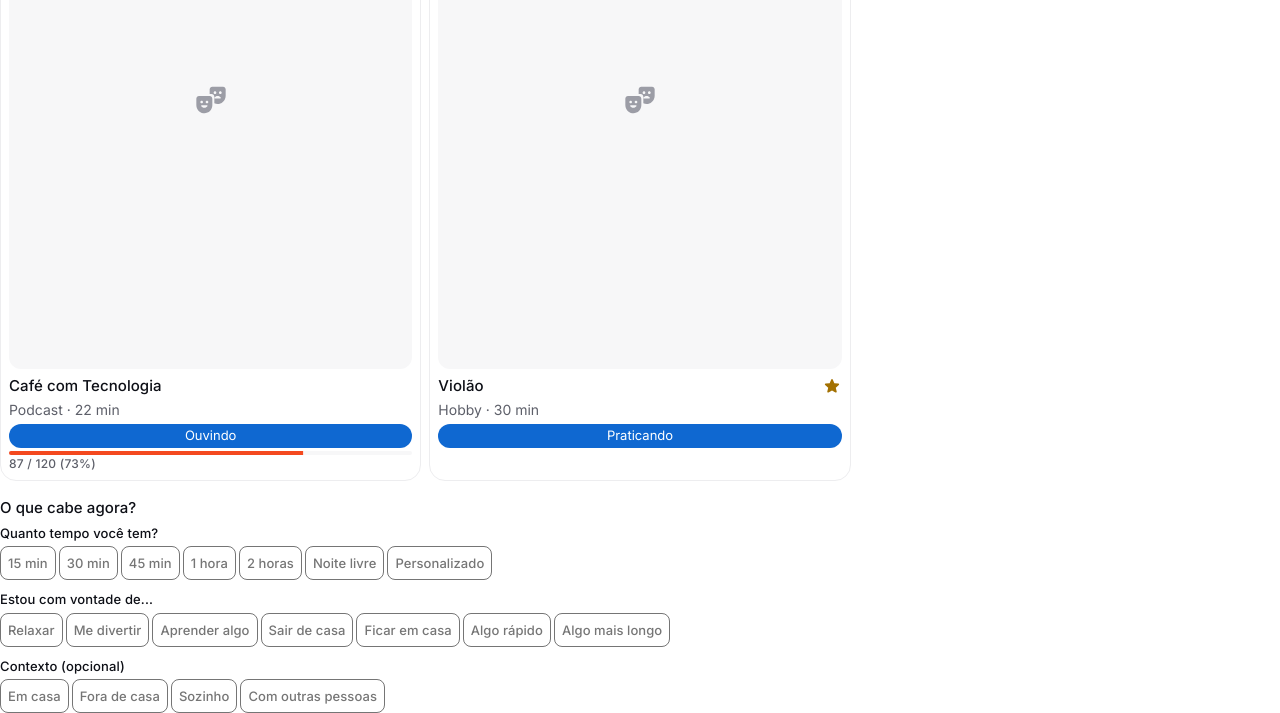
TodayPage › starts a suggested activity, marking it in progress
This screenshot has width=1280, height=713.
(page scrolled)
Expected: the text "O que cabe agora?" is shown, [0,498,136,517]
Click the button "15 min": [28, 563] box [0,546,56,580]
(page scrolled)
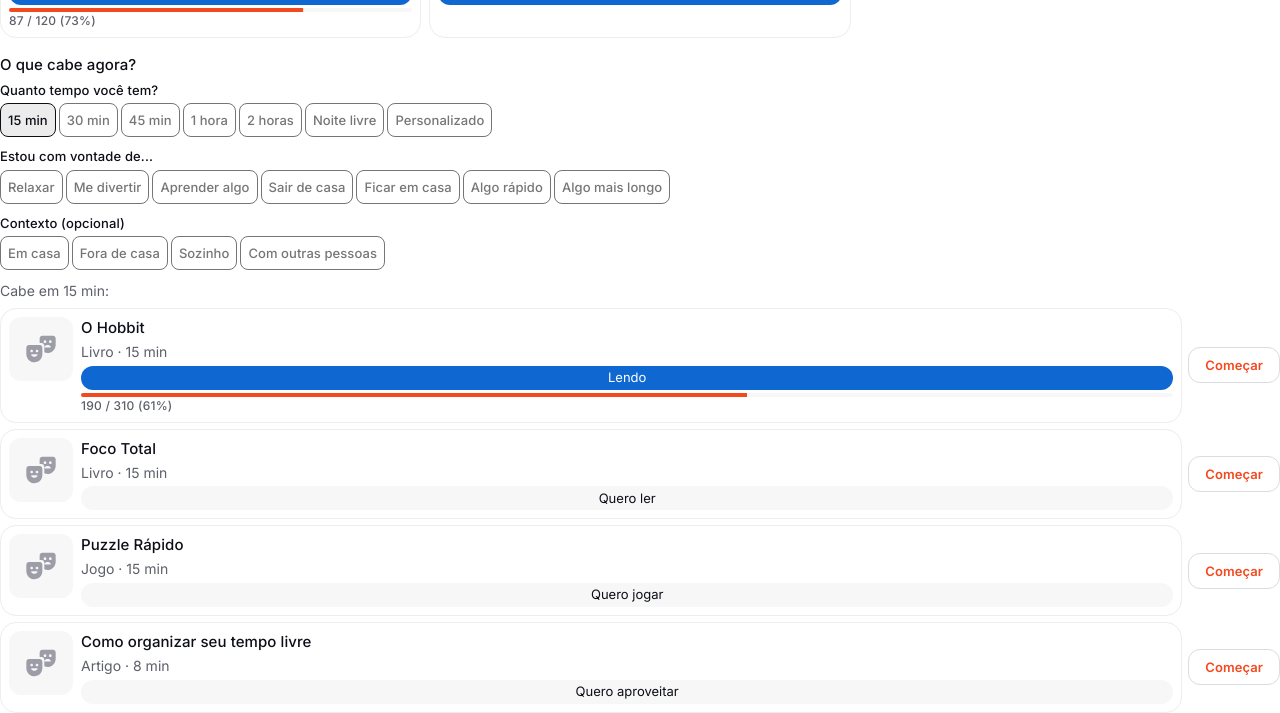
Click the button "Começar" in the row of "Quero jogar": [1234, 571] box [1188,553,1279,589]
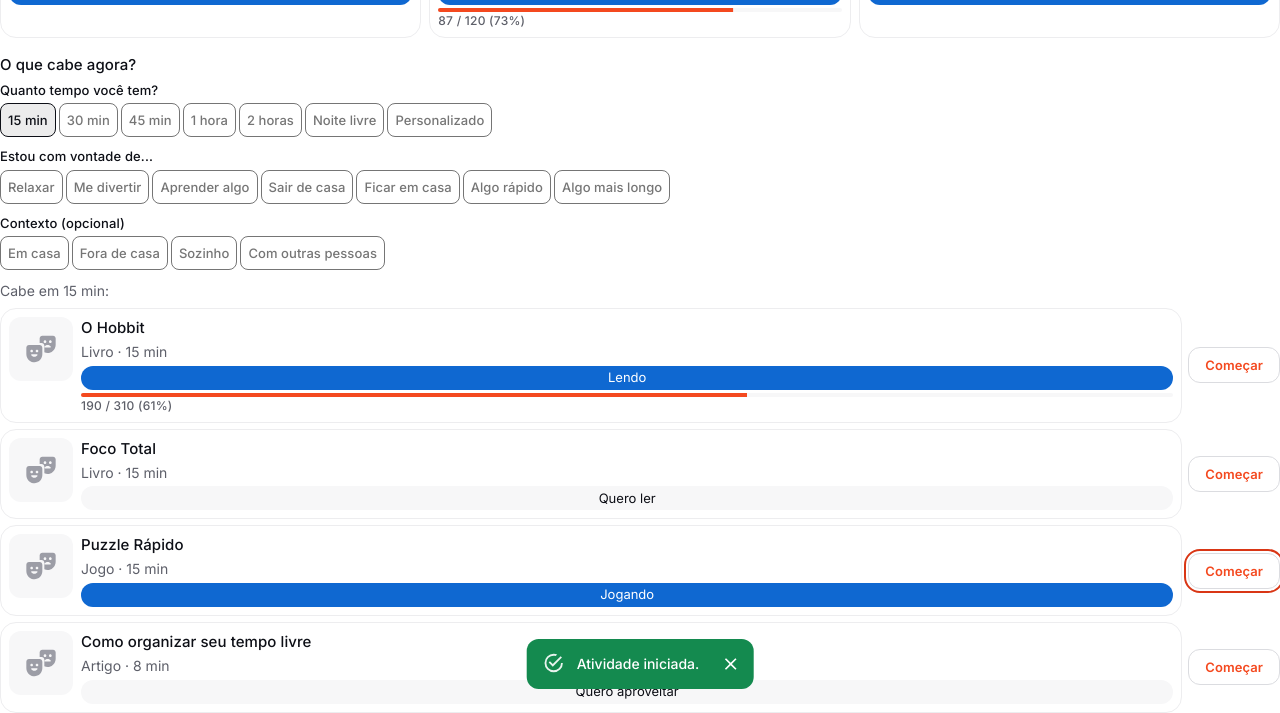
Result: the text "Atividade iniciada." is shown at [577,655,699,672]
